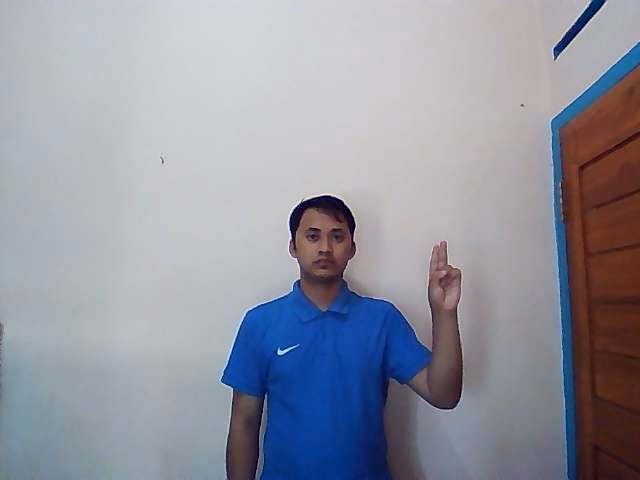U: (425, 240, 463, 310)
